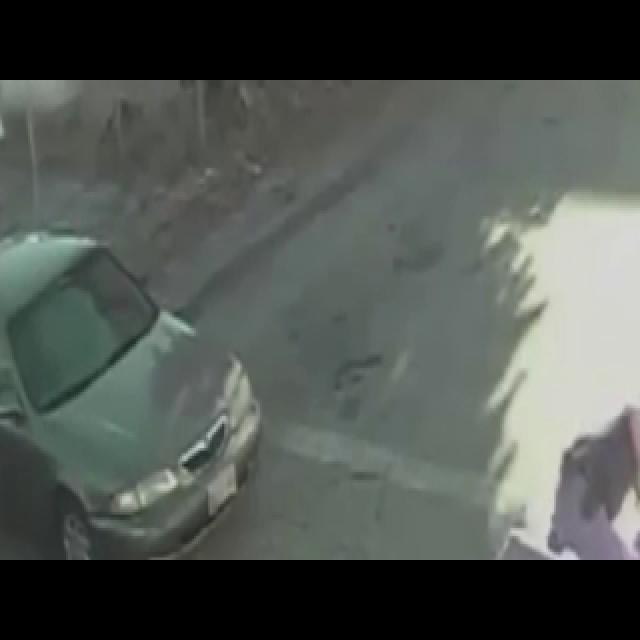shooting: (531, 323, 630, 591)
